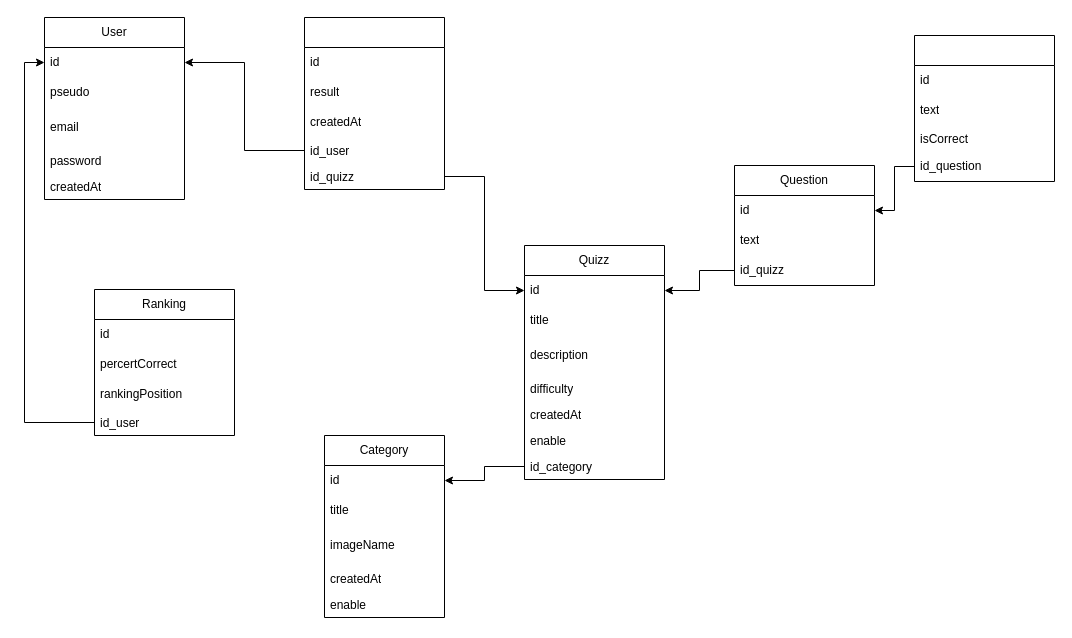
The diagram is 1072 pixels wide and 638 high, and some of its shapes have lost their labels. Here are the shapes that lost their labels. From the top down, the box of each, then its label:
(304, 16, 444, 190): Score
(914, 34, 1054, 182): Answer
